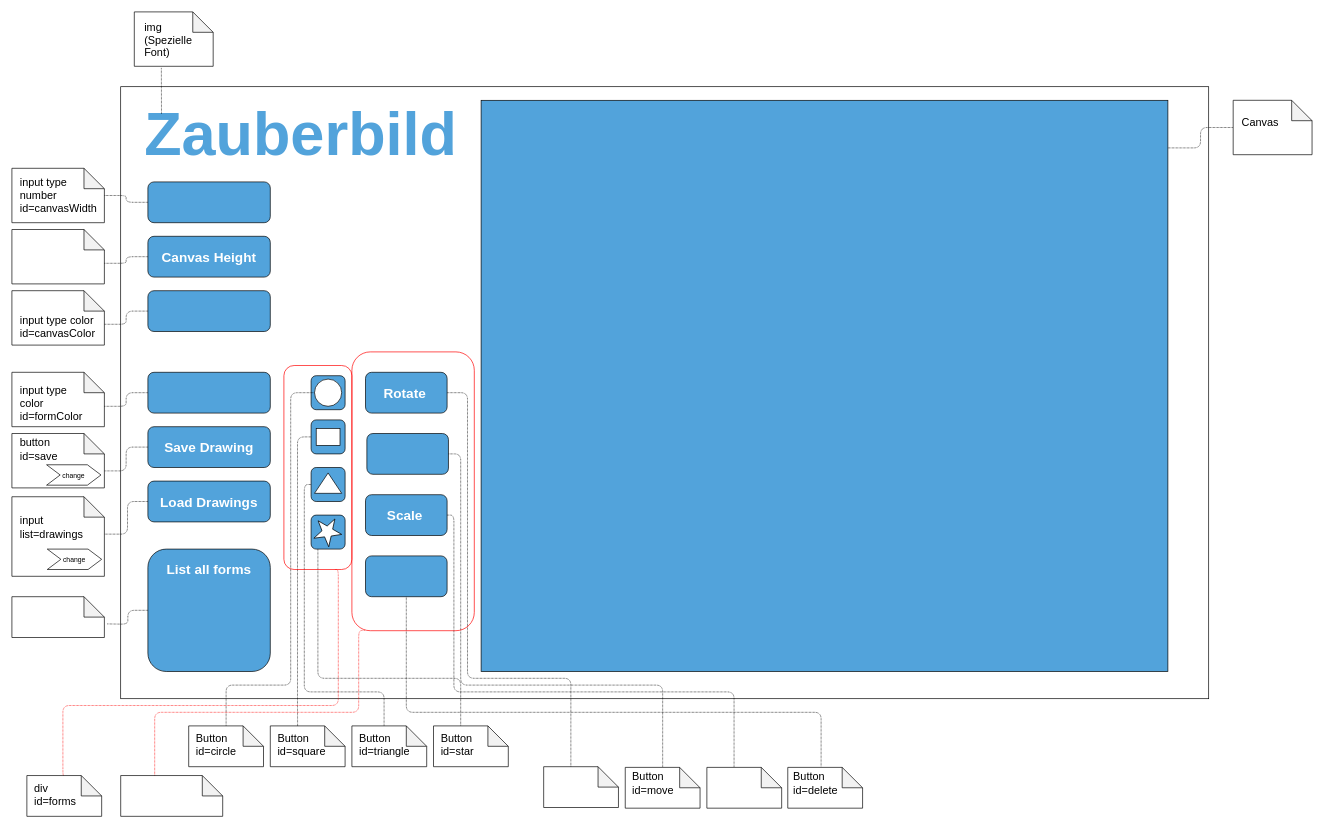
The diagram is 1324 pixels wide and 828 high, and some of its shapes have lost their labels. Each missing label, with the centre of its shape:
Button id=rotate: (580,787)
Button id=scaleValue: (744,787)
Canvas Color: (208,311)
Canvas Width: (208,202)
Delete: (406,576)
div id=allForms: (57,617)
div id=formChanges: (171,795)
Form Color: (208,392)
input type number id=canvasHeight: (57,256)
Move: (407,453)
